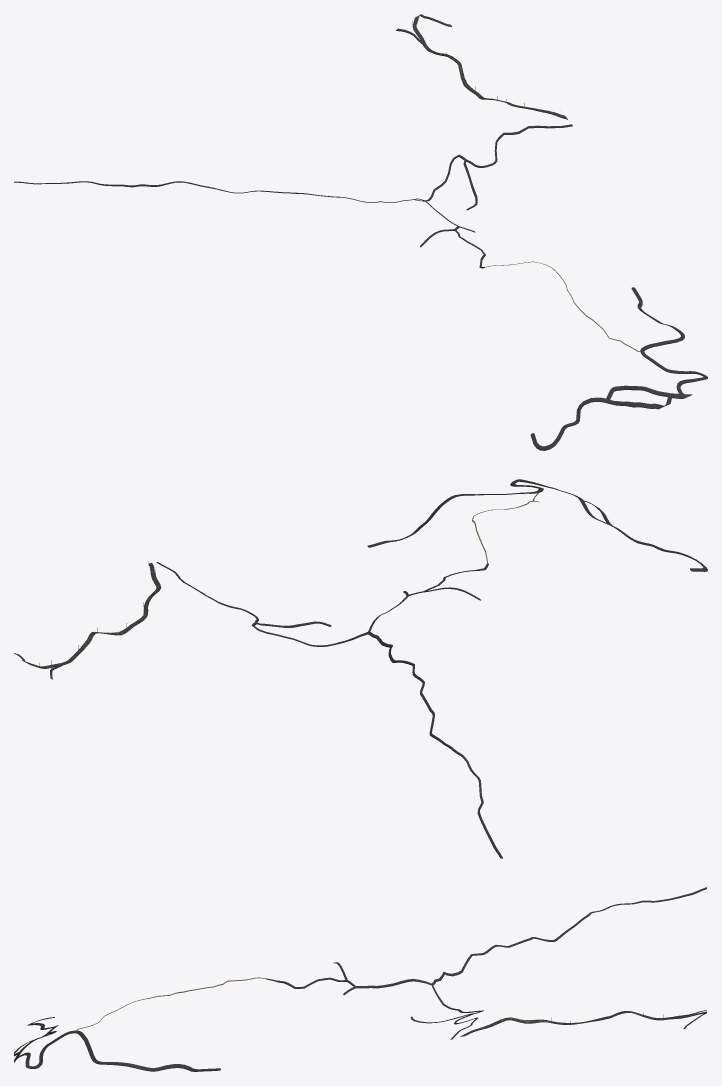
Rendered from 15-27356-14865.918edc53.glb.
3 renders of one model, top to bottom at view 1: azimuth 30°, elevation 25°; view 2: azimuth 150°, elevation 25°; view 3: azimuth 270°, elevation 25°, orthographic. The views are drawn at different scales.
Size of the model in its own units: 797 by 222 by 1168.
